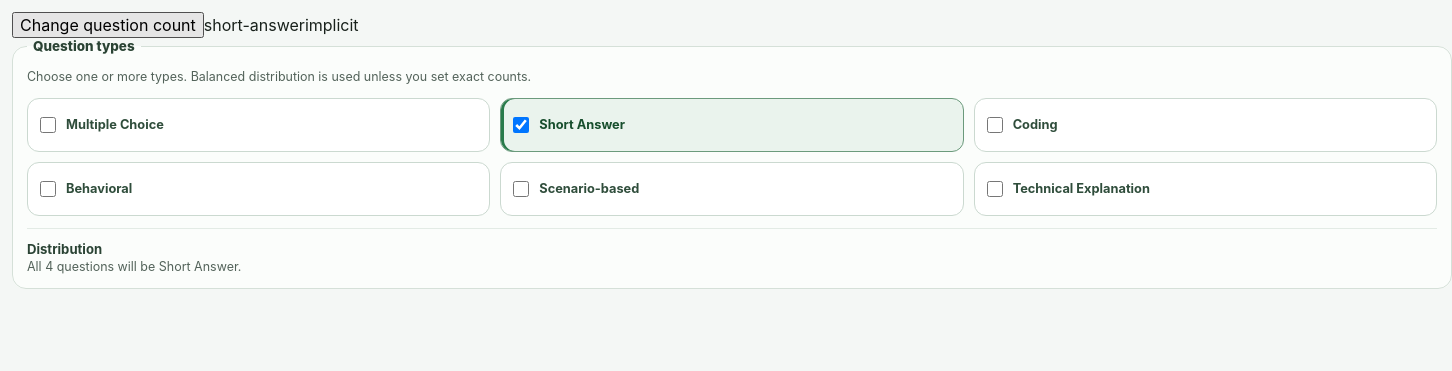
Test: InterviewQuestionTypeControls › updates exact counts with native number inputs and can return to balanced mode
Click the checkbox labelled "Coding". click: (995, 125)
box: 987,117 -> 1003,133
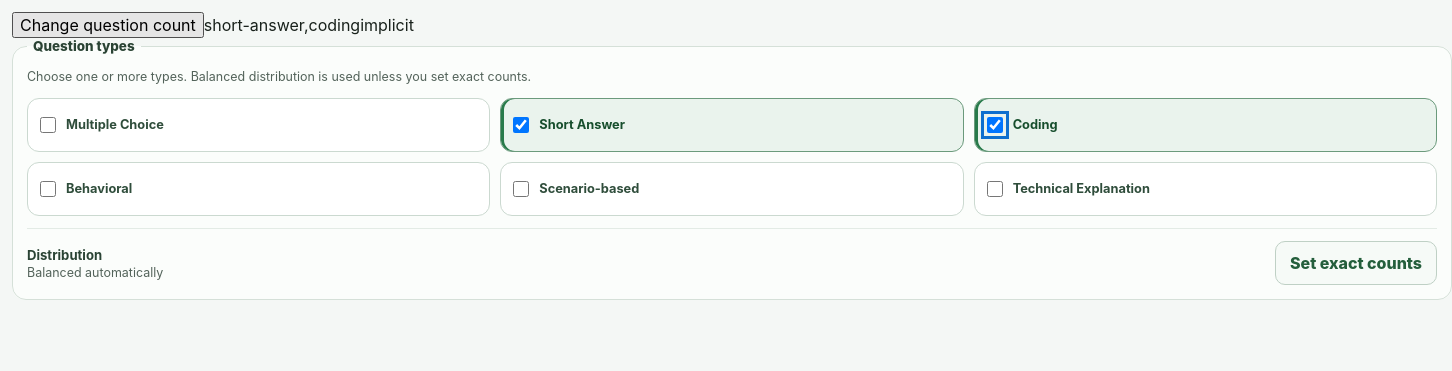
Click the button "Set exact counts". click: (1356, 263)
box: 1275,241 -> 1437,285
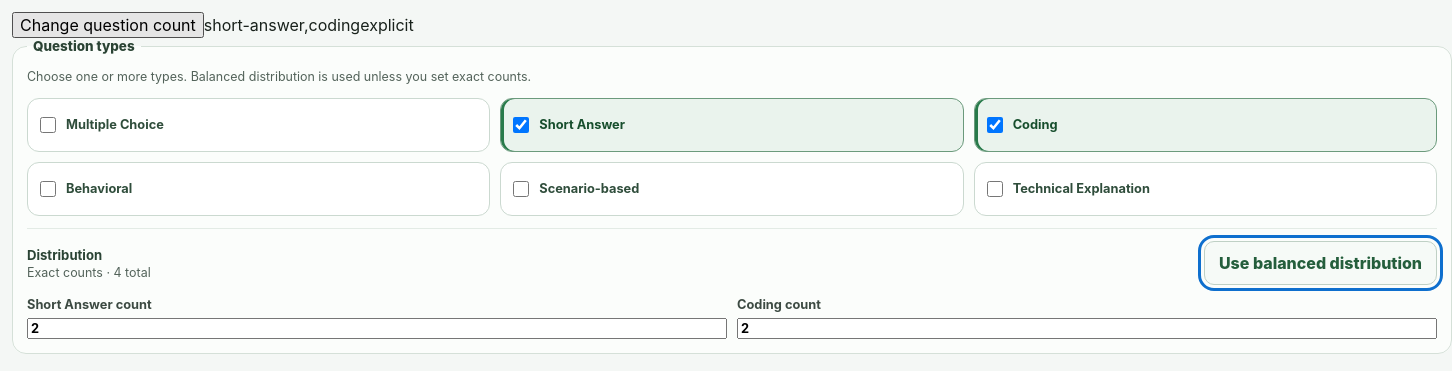
Clear the number field labelled "Short Answer count". click: (377, 329)
box: 27,318 -> 727,339
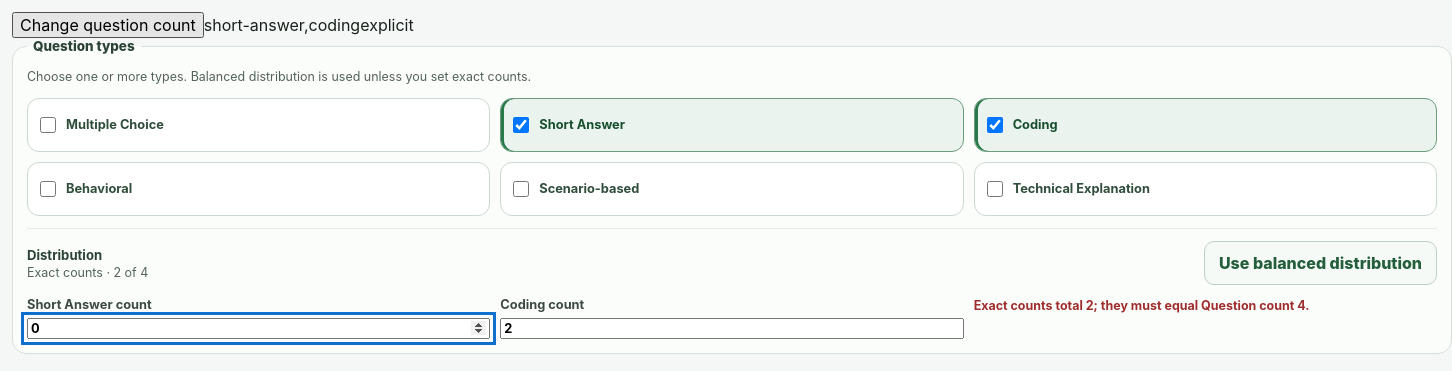
Type "3" into the number field labelled "Short Answer count". click: (259, 329)
box: 27,318 -> 490,339
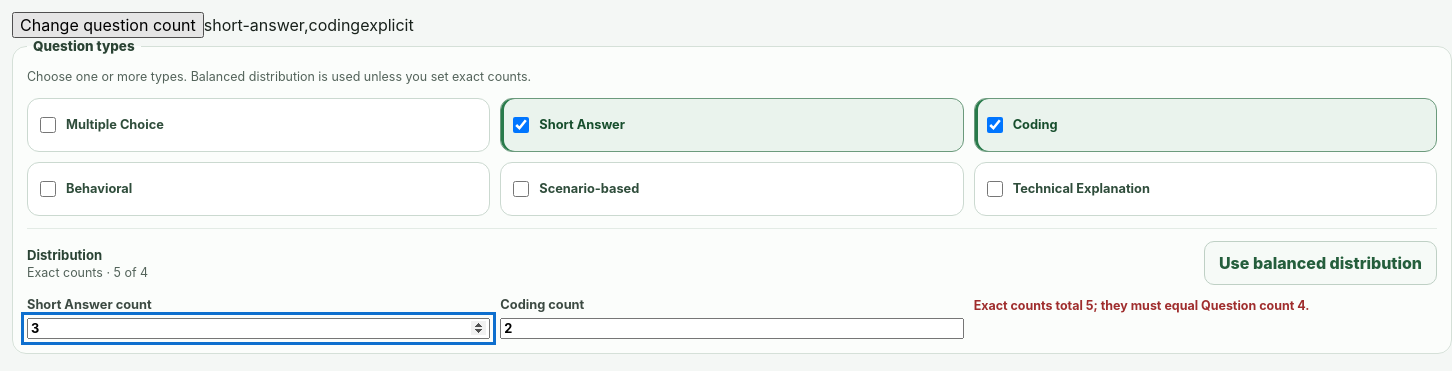
Expected: the text "Exact counts · 5 of 4" is shown, 27,265 -> 148,280
Expected: the message shows "total 5", 974,298 -> 1309,313
Click the button "Use balanced distribution". click: (1320, 263)
box: 1204,241 -> 1437,285
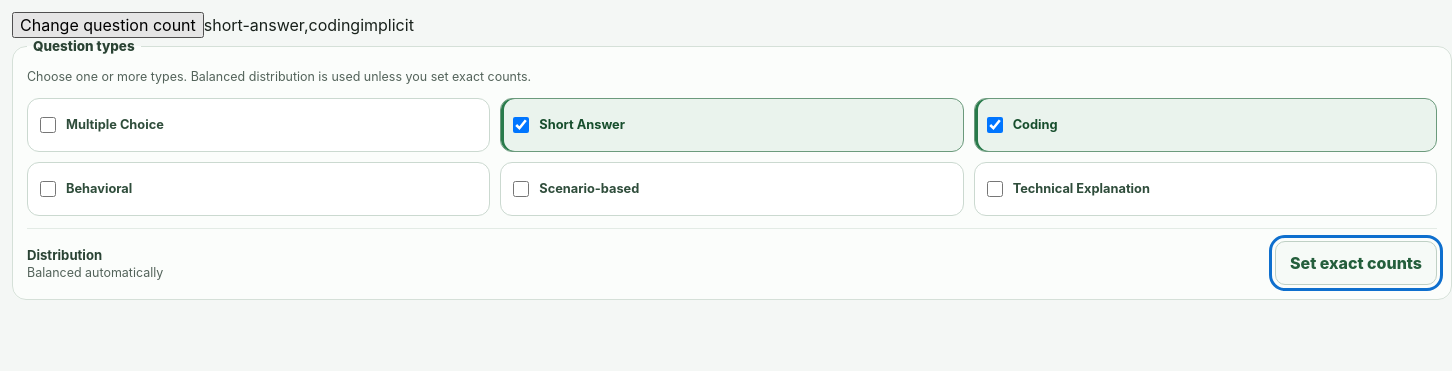
Expected: the text "Balanced automatically" is shown, 27,265 -> 163,280
